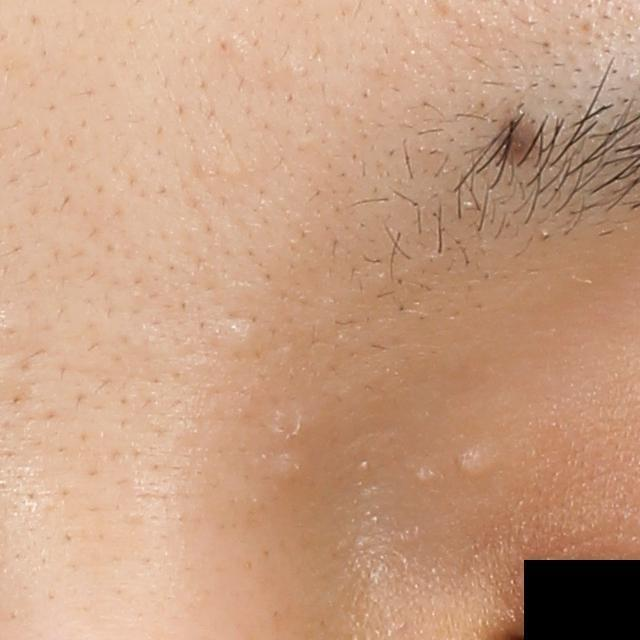other: (411, 462, 451, 489)
